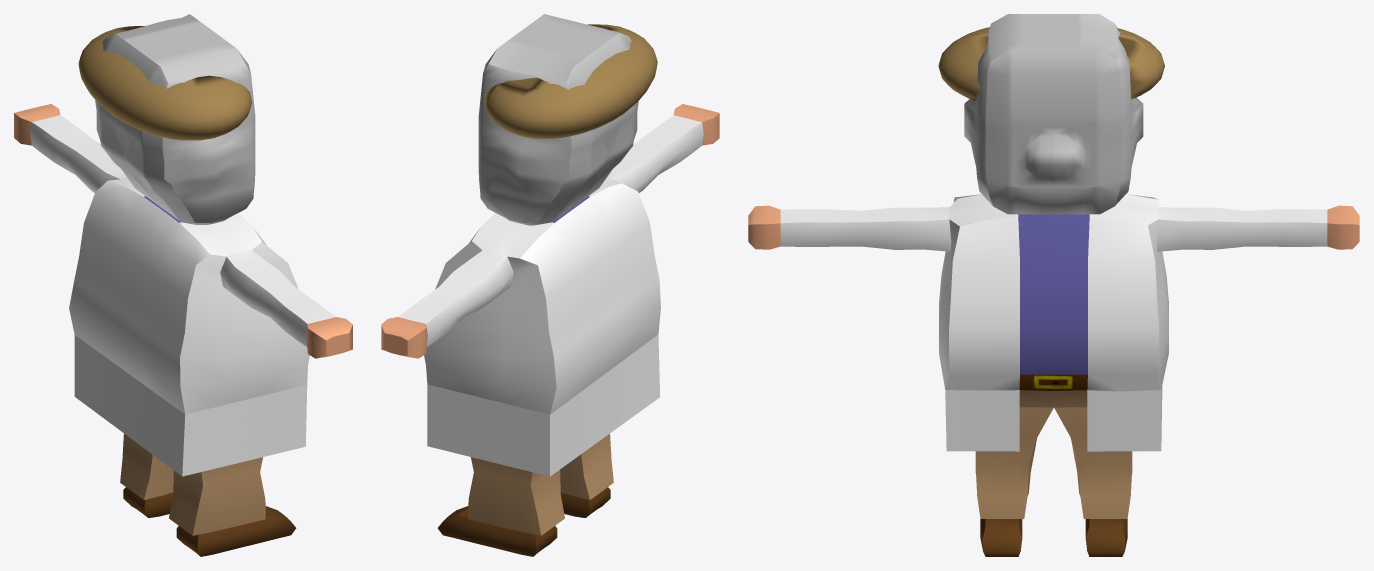
Rendered from Main Character.fbx.
The picture shows the model from 3 angles, left to right: view 1: azimuth 30°, elevation 25°; view 2: azimuth 150°, elevation 25°; view 3: azimuth 270°, elevation 25°; orthographic projection.
Visible parts, largest first — view 1: polySurface4; view 2: polySurface4; view 3: polySurface4.
Boxes of the visible parts, <box> form: polySurface4: <box>14,14,352,556</box>; polySurface4: <box>381,14,719,556</box>; polySurface4: <box>748,14,1359,556</box>.
Size of the model in its own units: 5.69 by 16.8 by 19.19.
